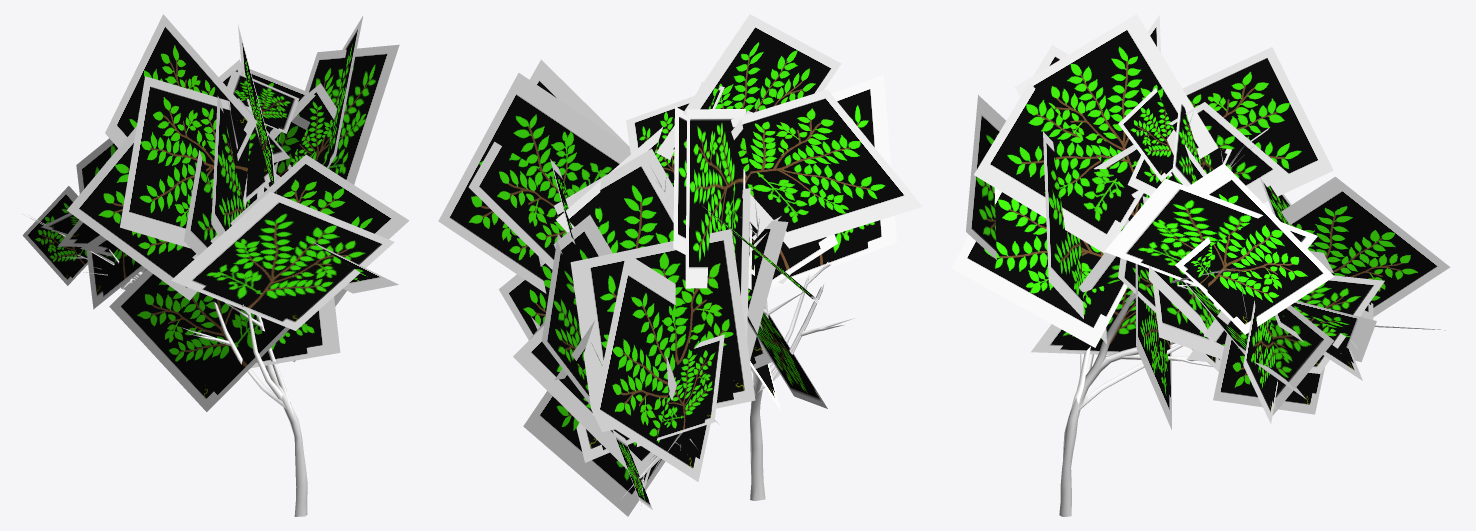
File: tree_k.fbx
3 views of the same model, side by side, from view 1: azimuth 30°, elevation 25°; view 2: azimuth 150°, elevation 25°; view 3: azimuth 270°, elevation 25° (orthographic). The views are drawn at different scales.
Visible parts, largest first — view 1: tree_k; view 2: tree_k; view 3: tree_k.
Boxes of the visible parts, left/top/right/bottom form: tree_k: left=22, top=14, right=409, bottom=516; tree_k: left=438, top=14, right=922, bottom=516; tree_k: left=951, top=14, right=1450, bottom=516.
Size of the model in its own units: 24.1 by 33.51 by 31.85.
Materials: 2 (1 with a texture image).
